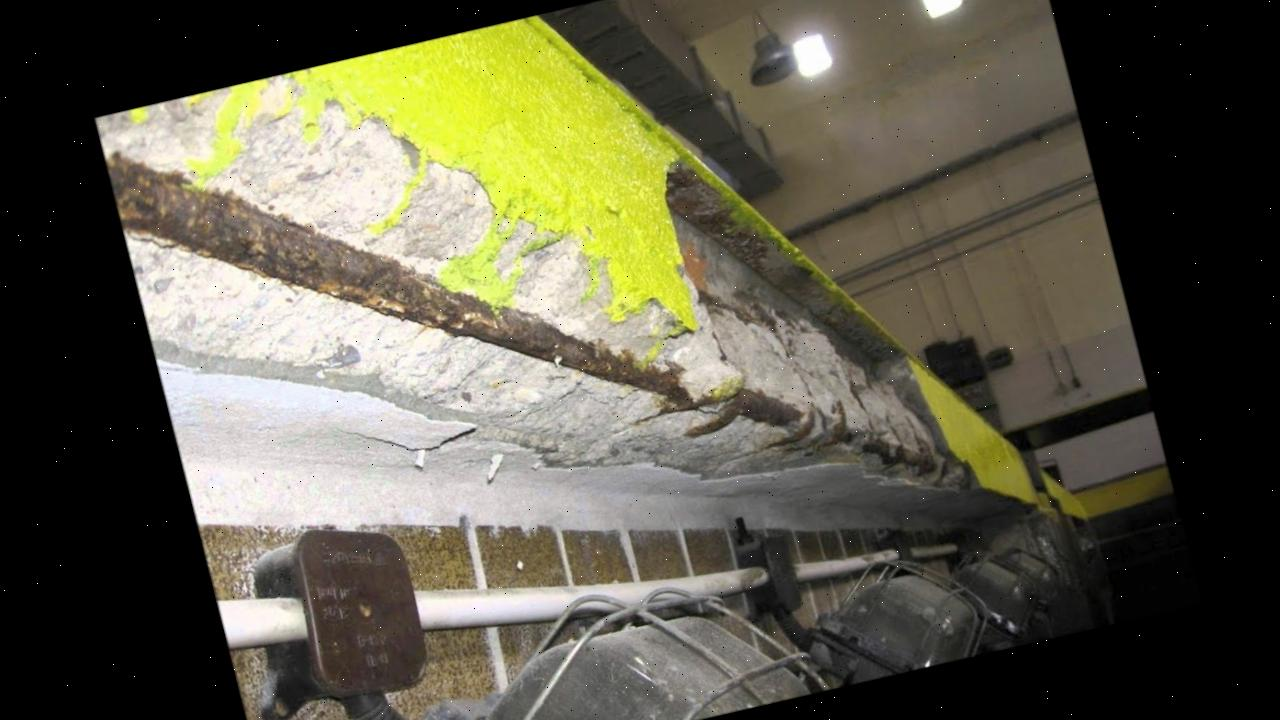exposed_rebar: (110, 153, 806, 436)
spalling: (127, 212, 965, 489), (209, 101, 494, 280), (101, 99, 214, 177)
